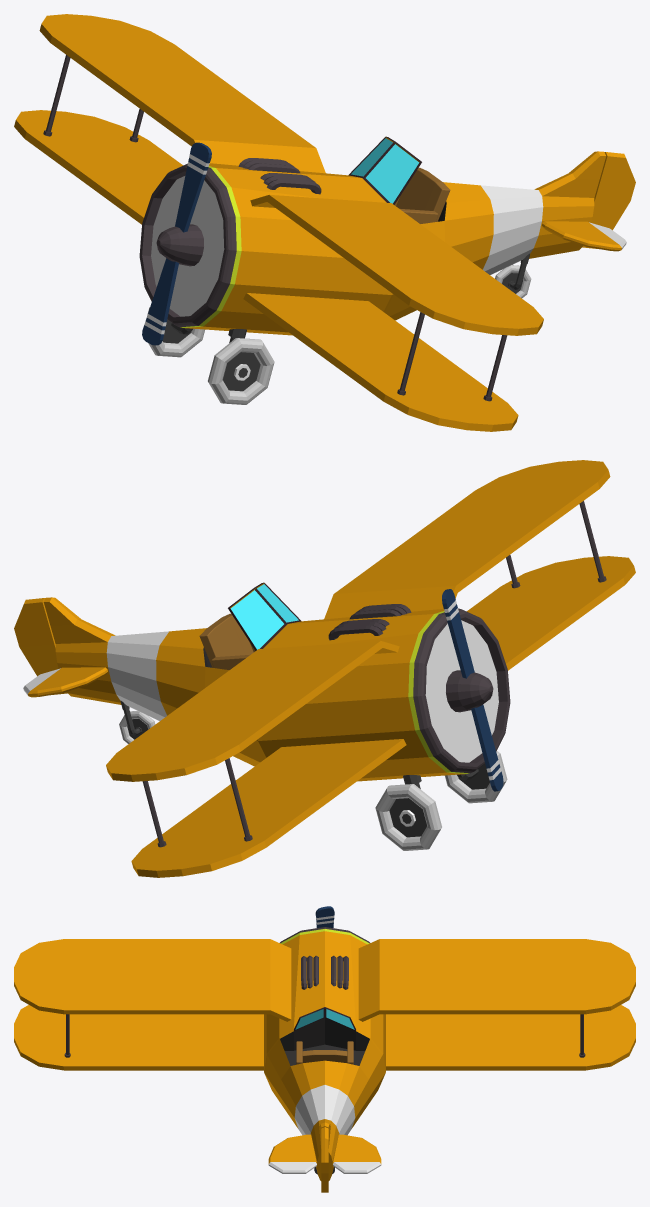
3 renders of one model, top to bottom at view 1: azimuth 30°, elevation 25°; view 2: azimuth 150°, elevation 25°; view 3: azimuth 270°, elevation 25°, orthographic. The views are drawn at different scales.
Parts seen in each view (by area): view 1: Planeorignal; view 2: Planeorignal; view 3: Planeorignal.
Part boxes in pixels (x1=…): Planeorignal: x1=14, y1=14, x2=635, y2=431; Planeorignal: x1=14, y1=460, x2=635, y2=877; Planeorignal: x1=14, y1=906, x2=635, y2=1192.
Bounding box in the file's own units: 652 × 306 × 993.
